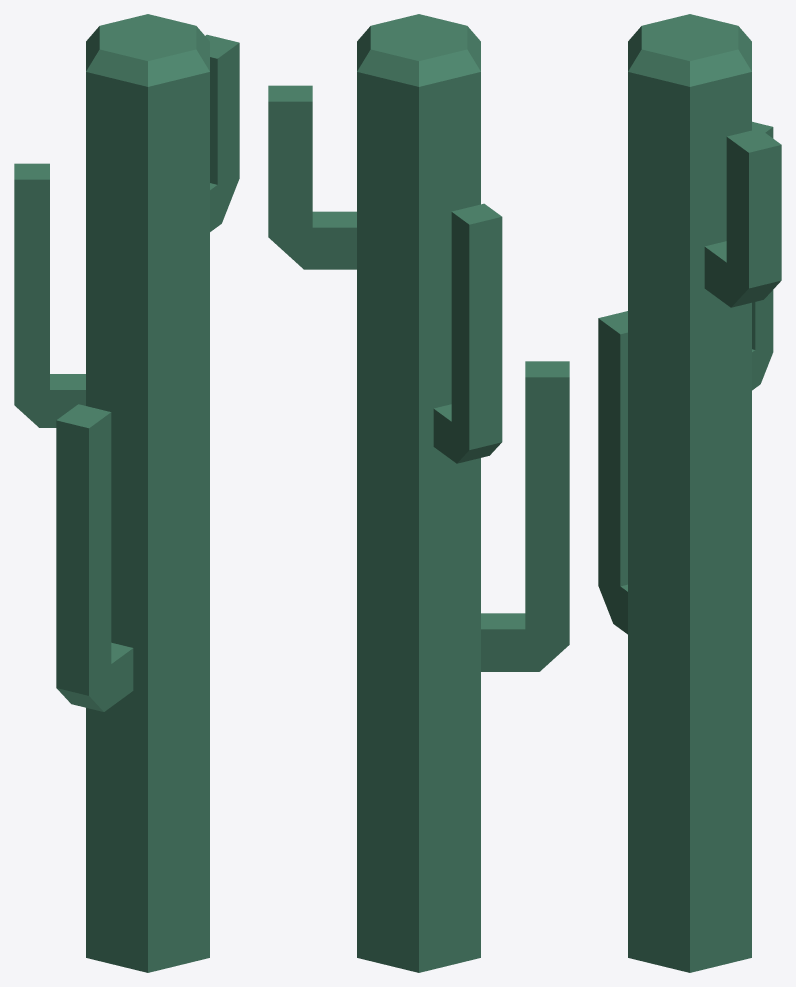
File: naturePack_055.obj
3 renders of one model, left to right at view 1: azimuth 30°, elevation 25°; view 2: azimuth 150°, elevation 25°; view 3: azimuth 270°, elevation 25°, orthographic.
Visible parts, largest first — view 1: Mesh1_Group1_Model.044; view 2: Mesh1_Group1_Model.044; view 3: Mesh1_Group1_Model.044.
Boxes of the visible parts, box(x1,y1,x2,y2) form: Mesh1_Group1_Model.044: box(14, 14, 239, 972); Mesh1_Group1_Model.044: box(268, 14, 569, 972); Mesh1_Group1_Model.044: box(598, 14, 781, 972).
Size of the model in its own units: 0.6637 by 2.37 by 0.4352.
